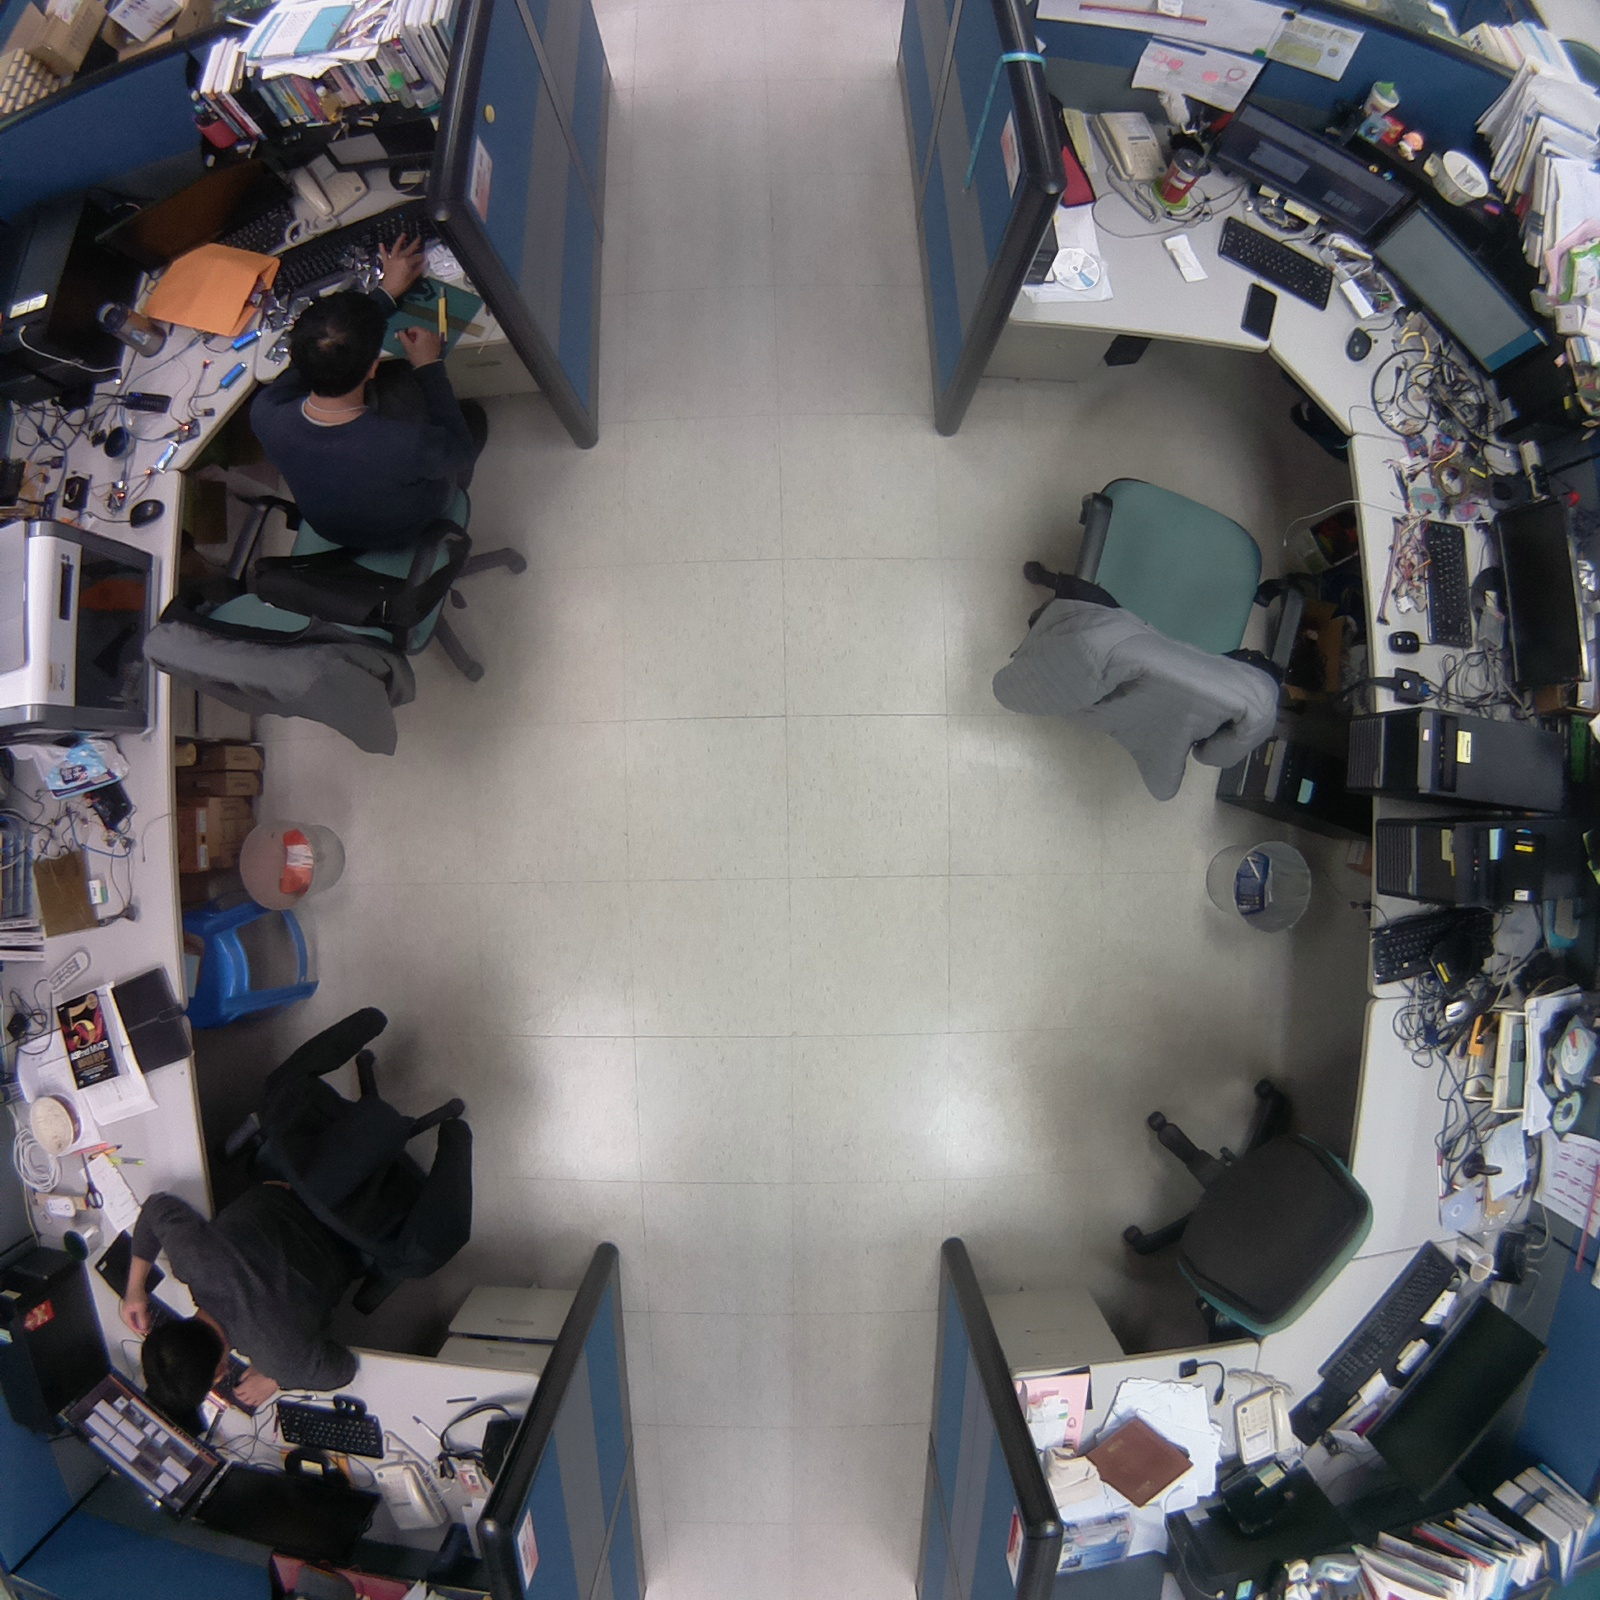chair: (978, 452, 1335, 827), (1094, 1060, 1391, 1360)
head: (274, 291, 389, 402), (132, 1310, 225, 1423)
sitting: (132, 229, 542, 775), (104, 993, 483, 1437)
